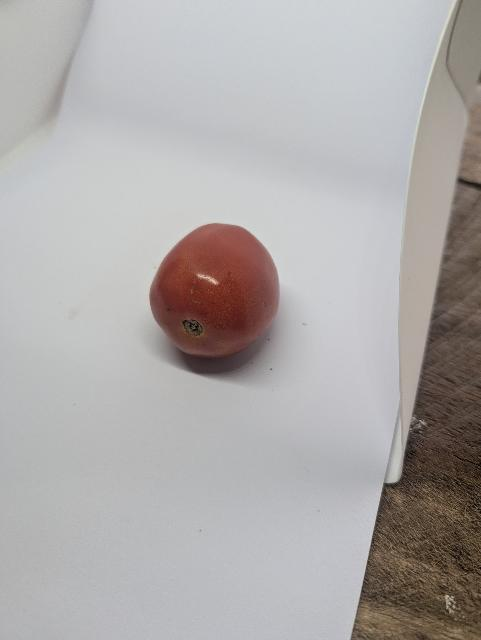red: (144, 211, 319, 374)
